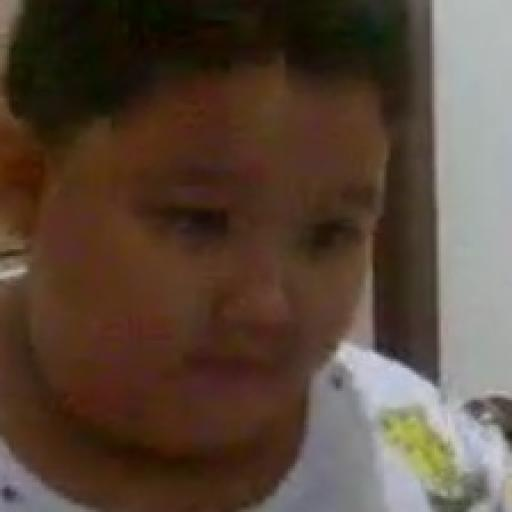Autism: (44, 43, 439, 476)
